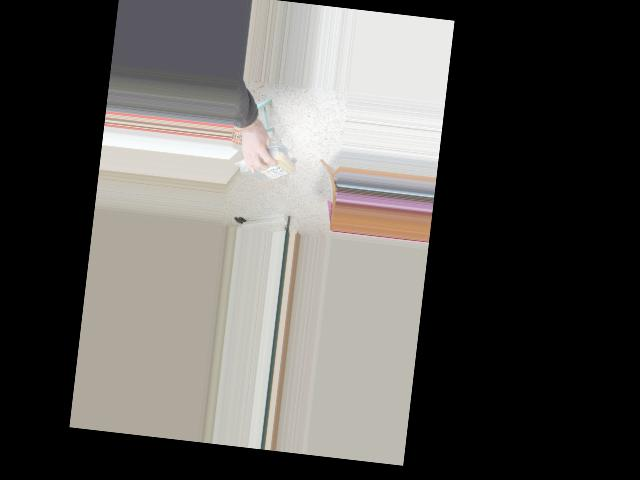cheese: (233, 146, 297, 183)
